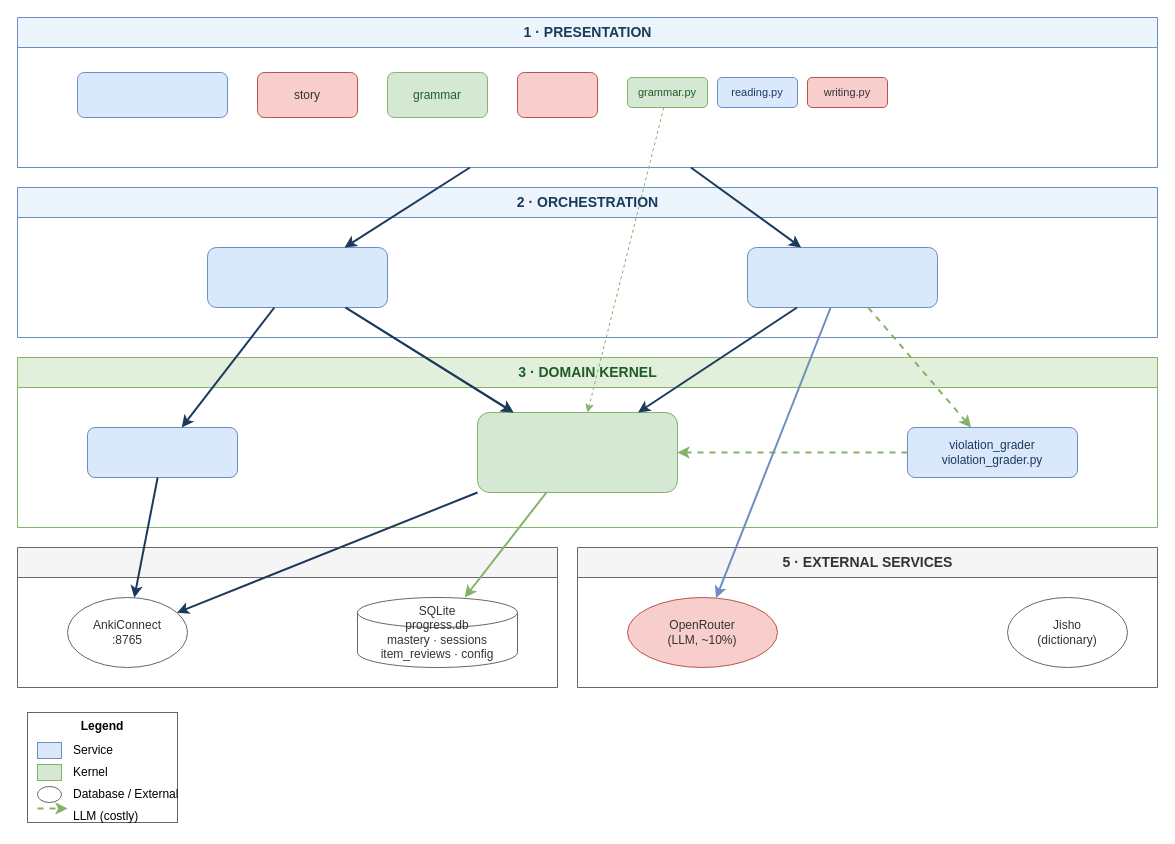
The diagram is 1175 pixels wide and 844 high, and some of its shapes have lost their labels. Each missing label, with the box of its shape:
4 · DATA (local, free): (16, 546, 558, 688)
ErrorHandler errors.py: (86, 426, 238, 478)
ProgressTracker progress.py — KERNEL: (476, 412, 678, 492)
SessionManager session.py: (206, 246, 388, 308)
start / end / status: (76, 72, 228, 118)
StorySession story_session.py: (746, 246, 938, 308)
write: (516, 72, 598, 118)
